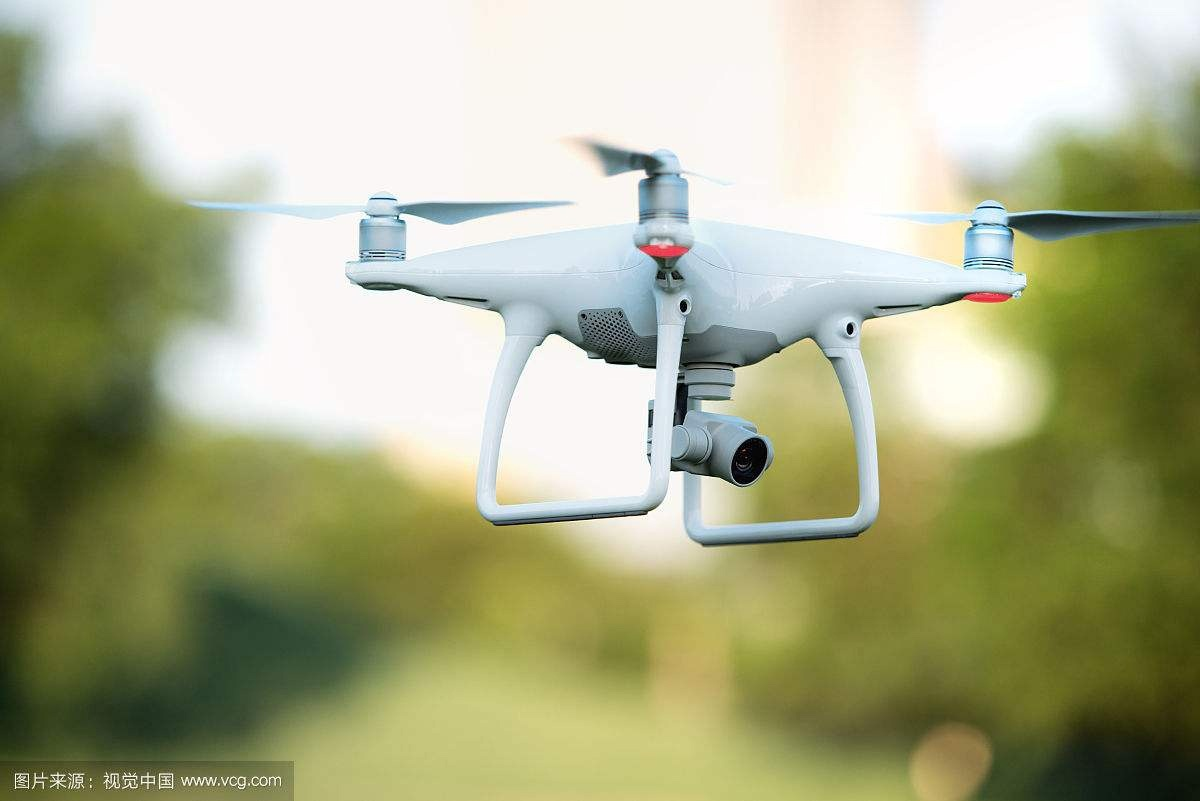DJI: (341, 144, 1098, 558)
